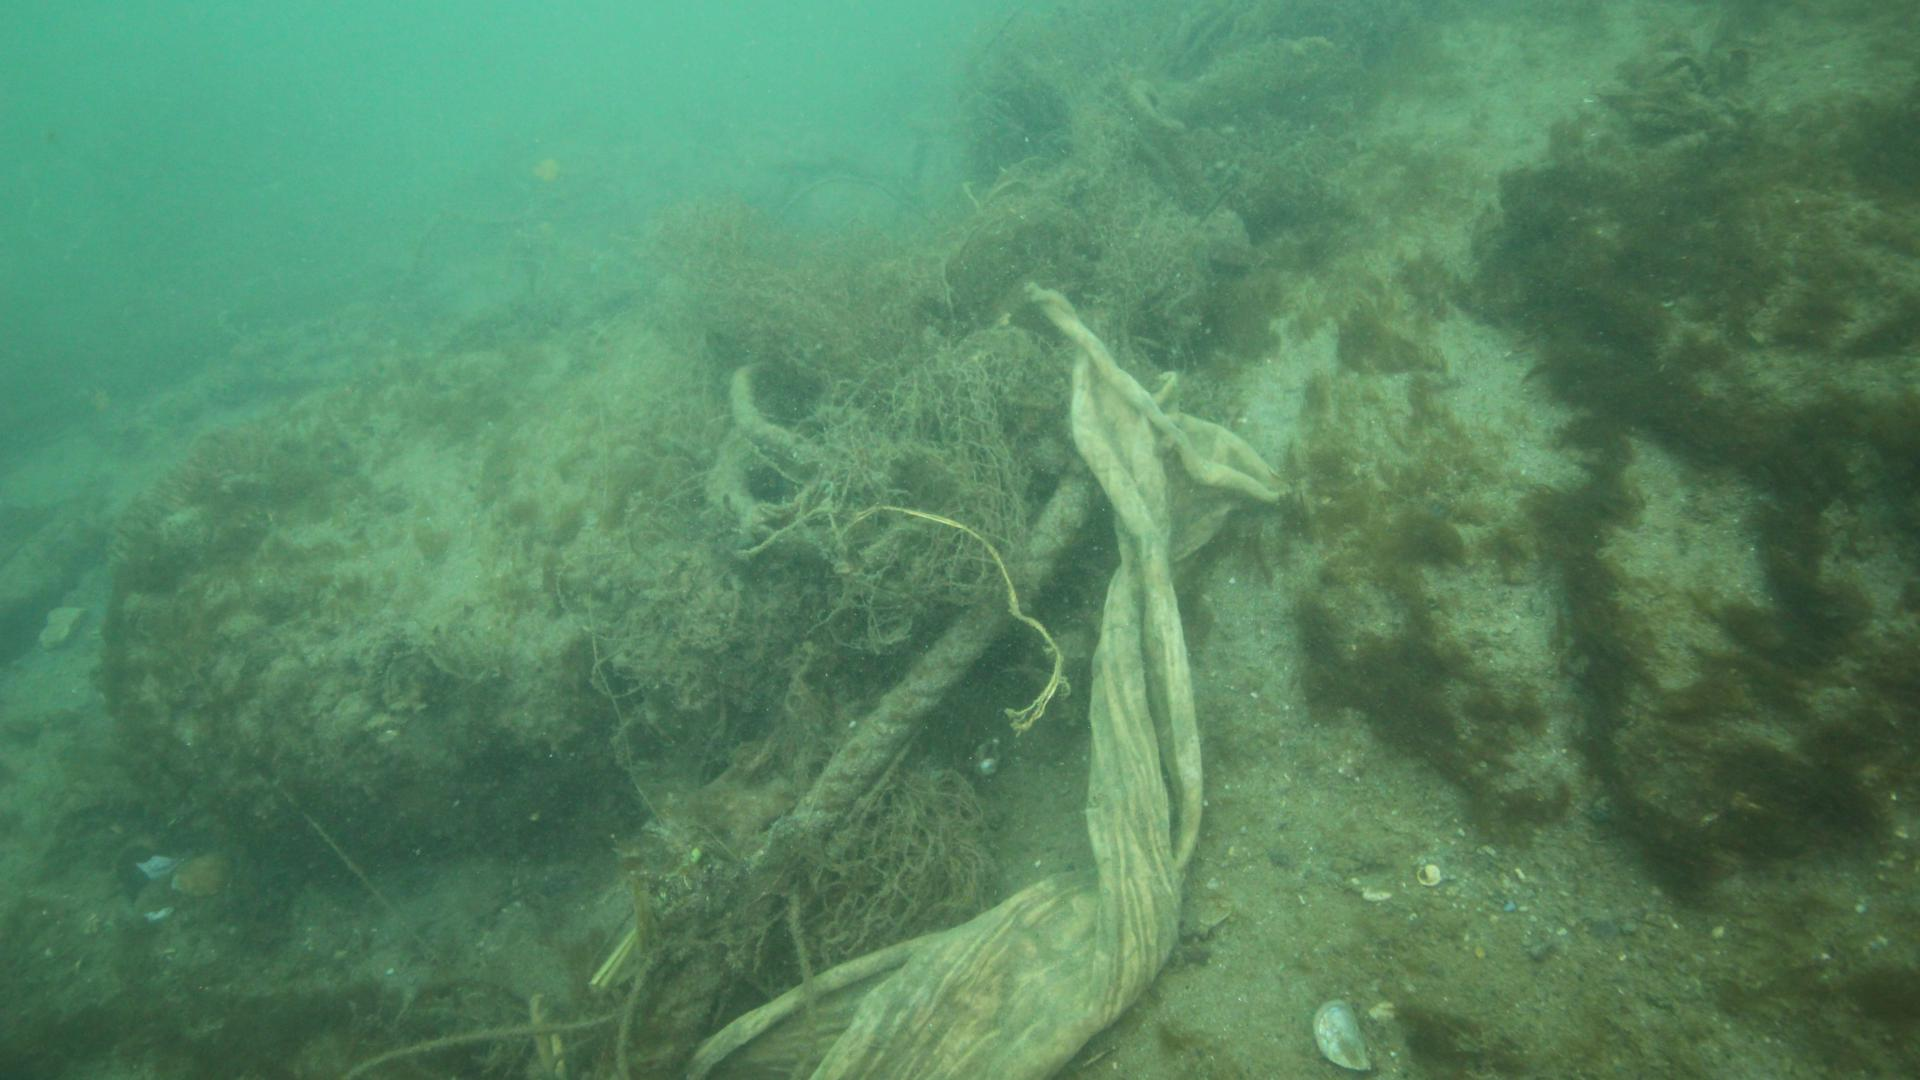rope: (621, 467, 1098, 1080)
